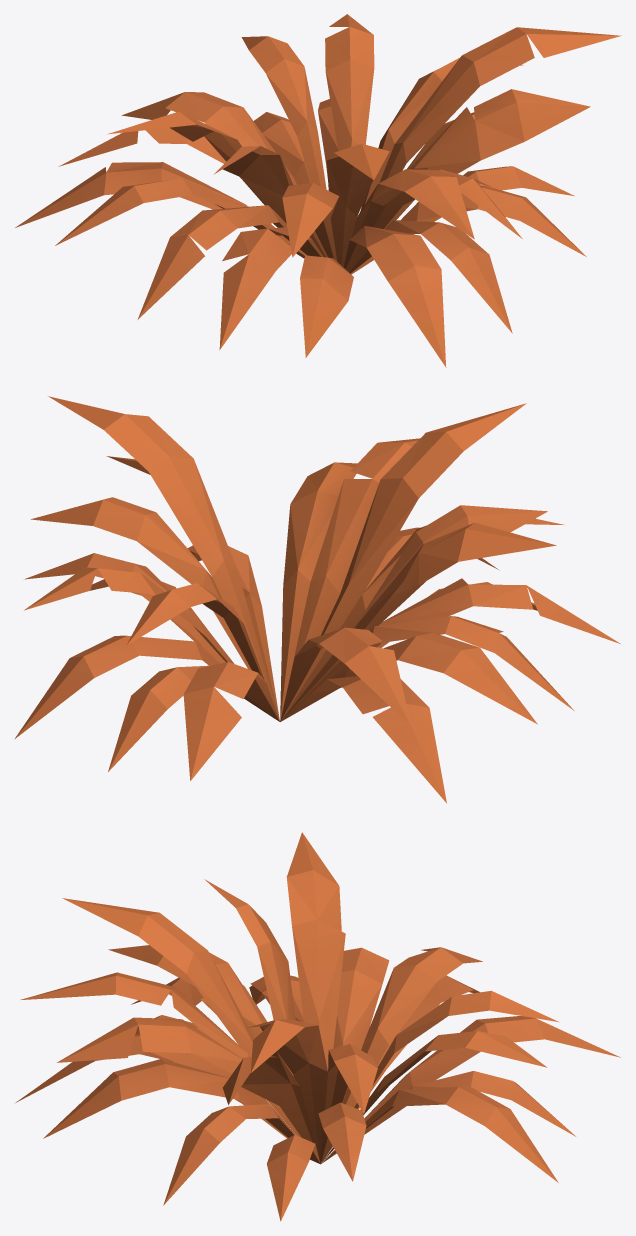
The model's file is bush_fern.glb.
The picture shows the model from 3 angles, top to bottom: view 1: azimuth 30°, elevation 25°; view 2: azimuth 150°, elevation 25°; view 3: azimuth 270°, elevation 25°; orthographic projection. The views are drawn at different scales.
Visible parts, largest first — view 1: bush_fern; view 2: bush_fern; view 3: bush_fern.
Boxes of the visible parts, x1,y1,x2,y2 form: bush_fern: [15, 14, 621, 367]; bush_fern: [14, 396, 620, 803]; bush_fern: [15, 832, 620, 1221].
Size of the model in its own units: 1.42 by 0.6 by 1.47.
Materials: 1 (1 with a texture image).
